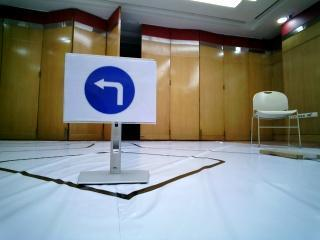left: (69, 57, 148, 117)
